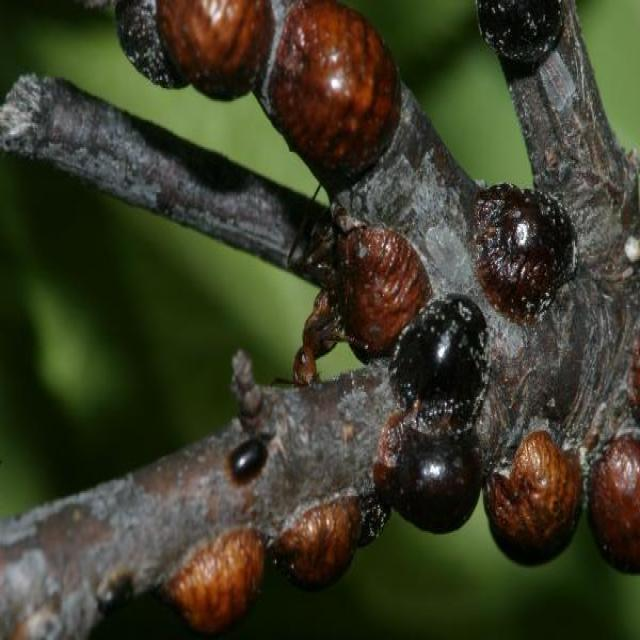BlackScale: (328, 204, 488, 430), (267, 0, 400, 181), (82, 0, 273, 99), (473, 182, 576, 322), (483, 431, 580, 564), (373, 413, 479, 528), (162, 526, 264, 634), (273, 498, 389, 588), (476, 0, 566, 83), (589, 437, 639, 573), (227, 437, 271, 485)
